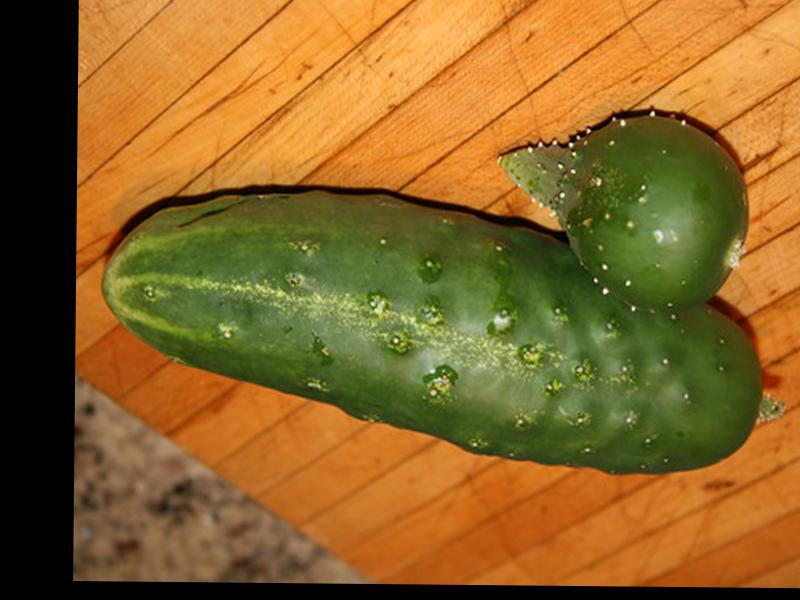Cucumber: (98, 186, 765, 475)
